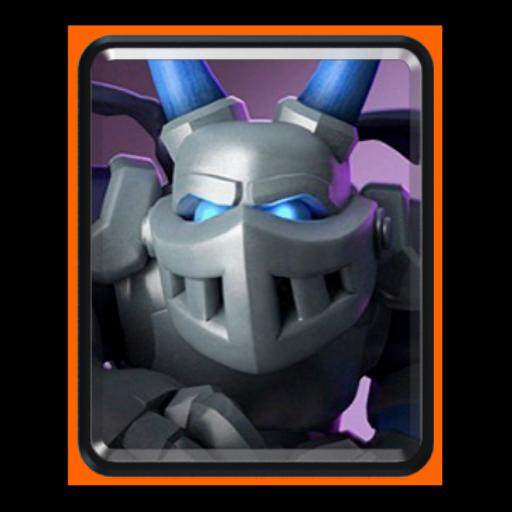mega-minion: (86, 60, 418, 450)
